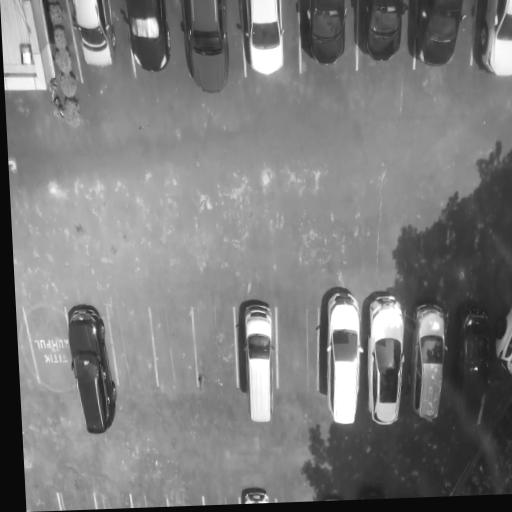Car: (63, 304, 122, 437), (446, 302, 499, 433), (321, 287, 365, 422), (363, 294, 409, 423), (180, 0, 233, 98), (408, 300, 449, 424), (239, 301, 276, 428), (409, 0, 468, 70), (125, 0, 173, 77), (68, 0, 119, 71), (242, 0, 288, 78), (301, 0, 349, 68), (360, 0, 407, 65), (475, 0, 512, 78), (488, 298, 512, 388), (240, 490, 271, 504)
Space Available: (191, 302, 240, 396), (147, 304, 199, 391), (106, 306, 157, 392), (276, 302, 320, 394), (23, 309, 75, 385), (57, 491, 96, 511), (94, 491, 129, 508), (167, 491, 204, 507), (131, 492, 168, 508), (203, 493, 241, 505)
